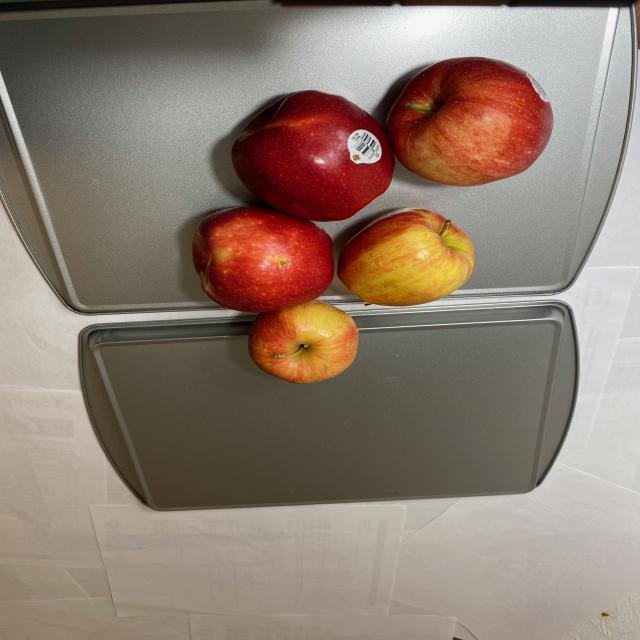Apple: (189, 55, 553, 386)
